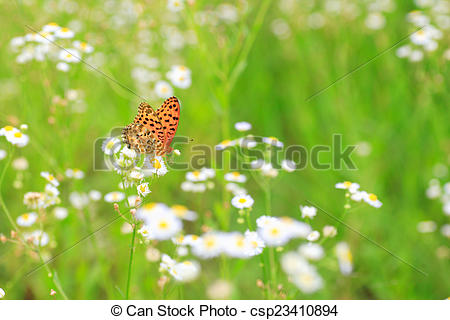Argyreus hyperbius: (120, 93, 183, 162)
butterfly: (122, 95, 185, 164)
